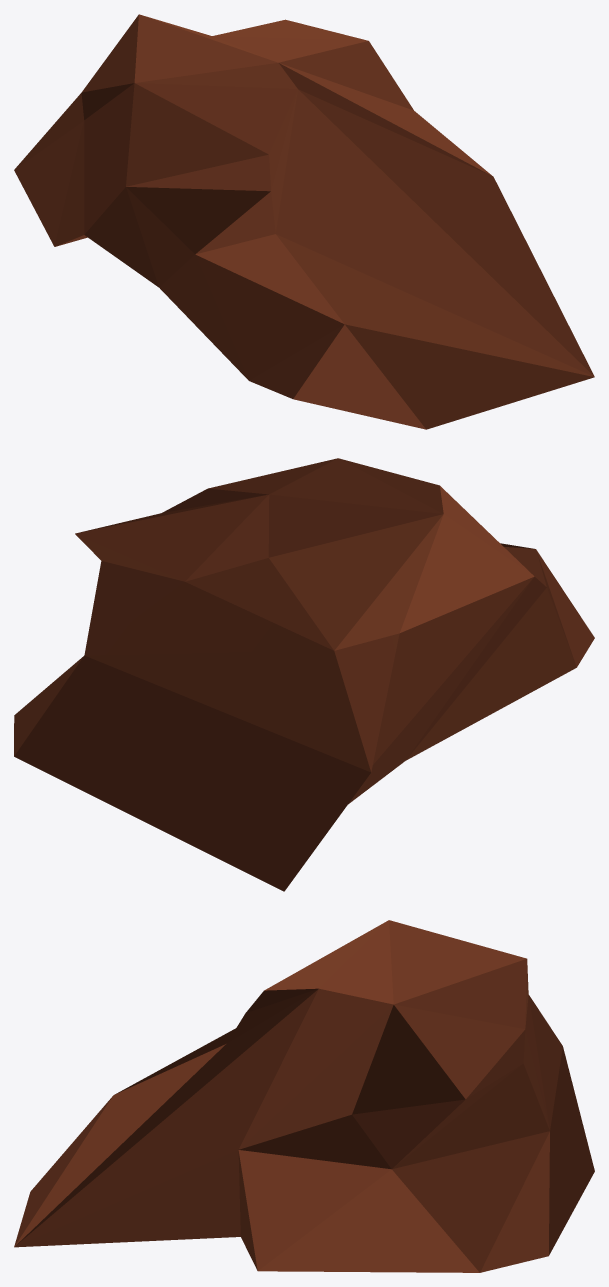
The model's file is 08 Mountain_4.FBX.glb.
The picture shows the model from 3 angles, top to bottom: view 1: azimuth 30°, elevation 25°; view 2: azimuth 150°, elevation 25°; view 3: azimuth 270°, elevation 25°; orthographic projection. The views are drawn at different scales.
Parts seen in each view (by area): view 1: Mountain_desert_006.2; view 2: Mountain_desert_006.2; view 3: Mountain_desert_006.2.
Part boxes in pixels (x1,y1,x2,y2): Mountain_desert_006.2: (14,14,594,429); Mountain_desert_006.2: (14,458,594,891); Mountain_desert_006.2: (14,920,594,1272).
Bounding box in the file's own units: 1228 × 811 × 1791.
